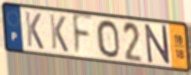2: (122, 20, 145, 64)
F: (71, 12, 95, 58)
K: (23, 10, 45, 52), (48, 13, 70, 55)
N: (144, 23, 172, 66)
O: (95, 19, 122, 60)
